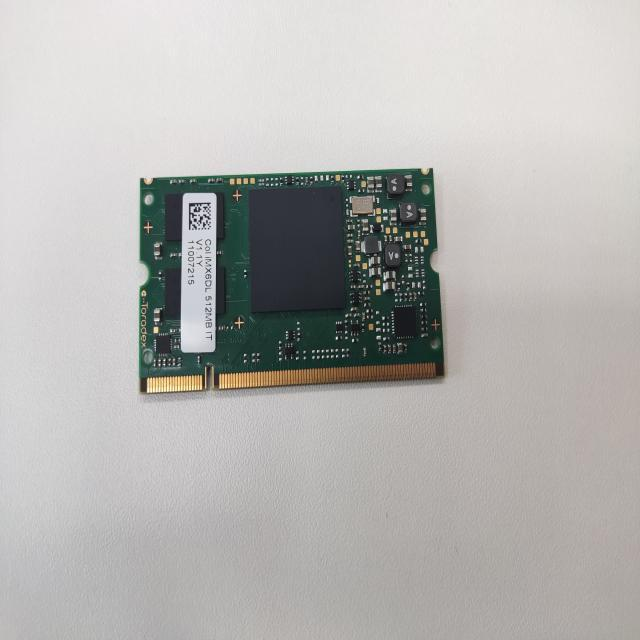som: (128, 157, 456, 408)
